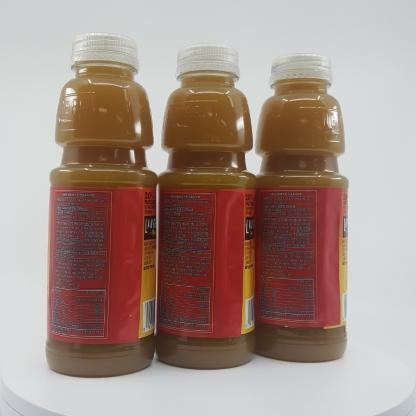-----449ML: (47, 32, 158, 377), (155, 43, 255, 370), (247, 53, 348, 363)
